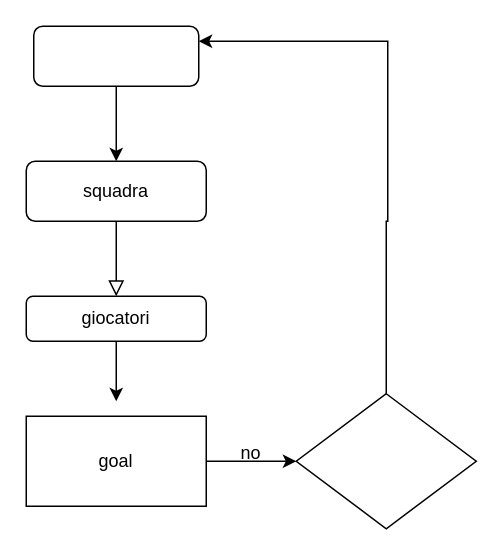
Image size: 503x555. Some labels were removed from this diagram. The box of each missing label's shape, as (x1, y1, x2, y2) in pixels:
non ha segnato goal: (295, 392, 476, 529)
ricerca utente: (32, 25, 199, 86)
